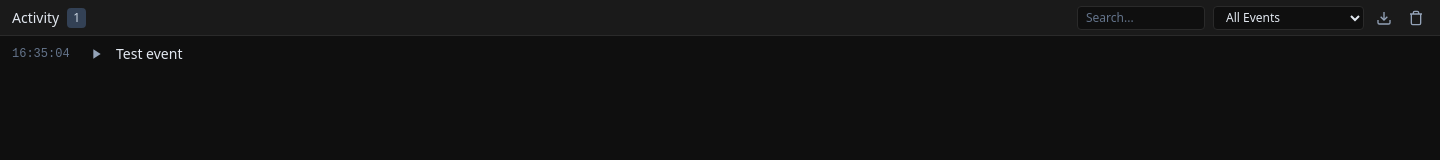
Test: ActivityLog › should clear events when clear button clicked
Click the button titled "Clear" at [1416, 18], box [1404, 6, 1428, 30]
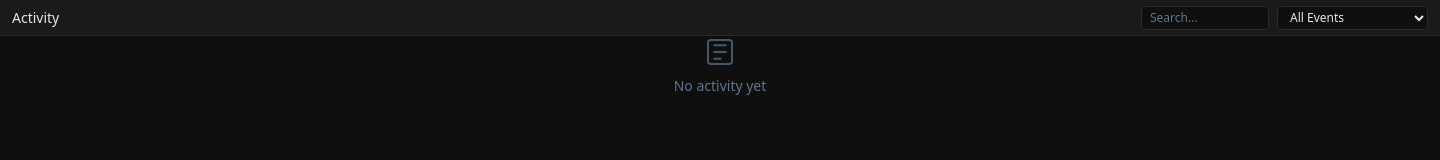
Result: the text "No activity yet" is shown at [674, 76, 766, 96]
